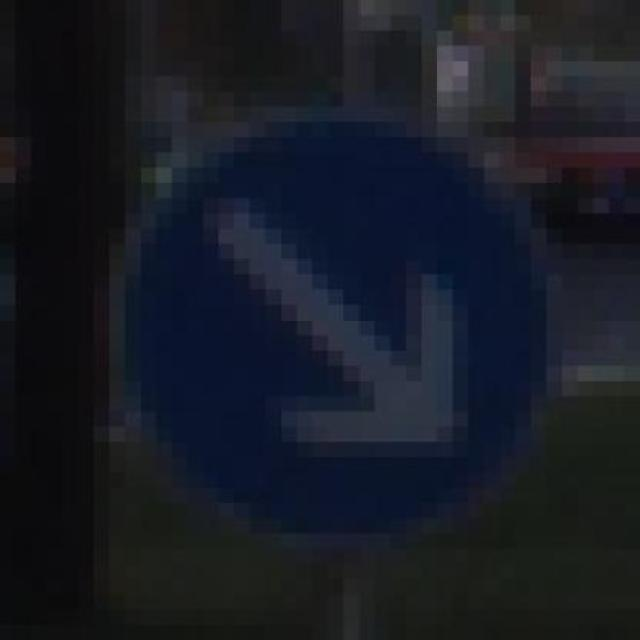Keep-Right: (109, 91, 594, 564)
